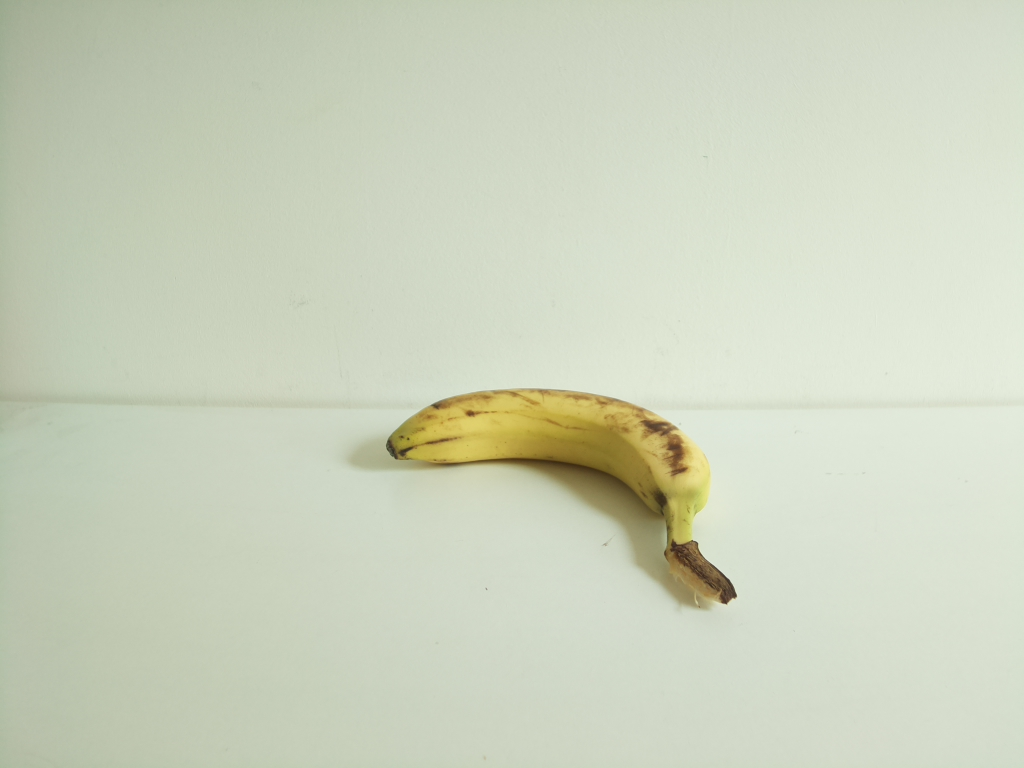banana: (387, 387, 736, 608)
